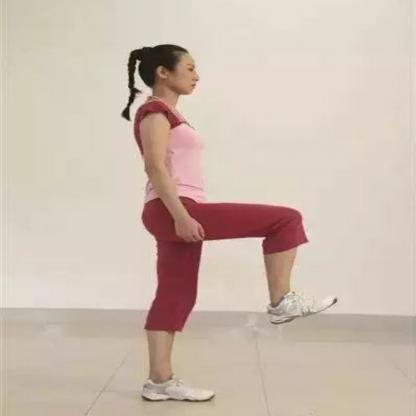normal: (111, 36, 340, 407)
